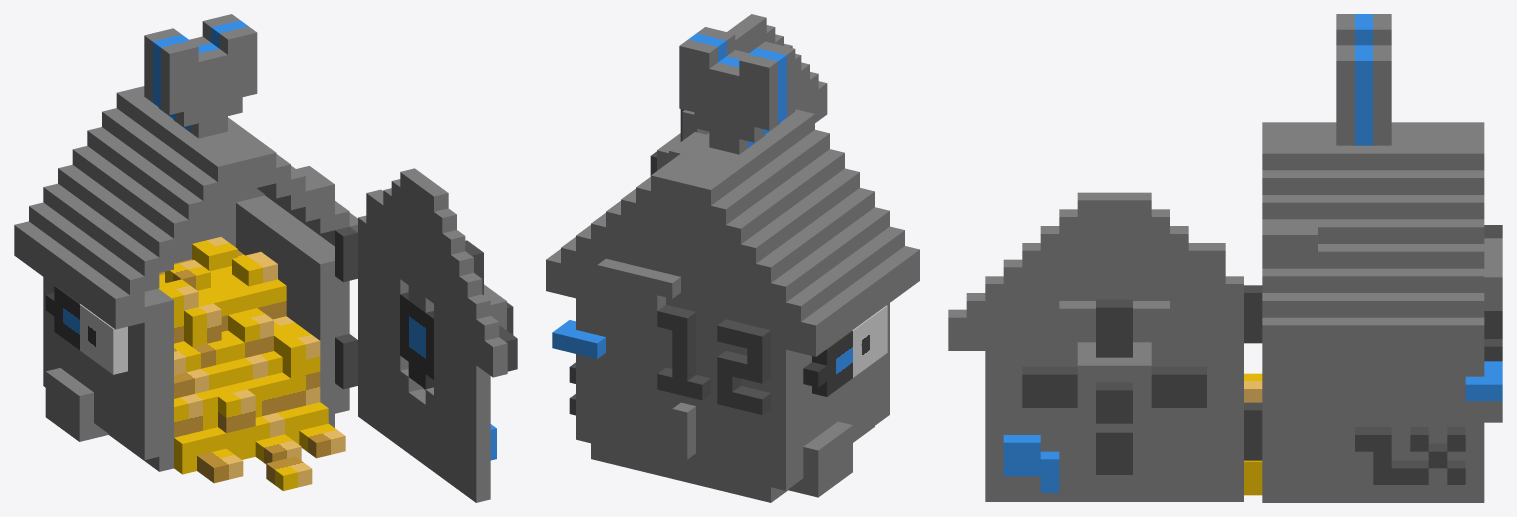
Rendered from HOME#12_GLB.glb.
The picture shows the model from 3 angles, left to right: view 1: azimuth 30°, elevation 25°; view 2: azimuth 150°, elevation 25°; view 3: azimuth 270°, elevation 25°; orthographic projection. The views are drawn at different scales.
Visible parts, largest first — view 1: Node-Local; view 2: Node-Local; view 3: Node-Local.
Part boxes in pixels (x1=…): Node-Local: x1=14, y1=14, x2=517, y2=502; Node-Local: x1=546, y1=14, x2=919, y2=502; Node-Local: x1=948, y1=14, x2=1502, y2=502.
Bounding box in the file's own units: 22 × 25 × 30.
Materials: 1 (1 with a texture image).
